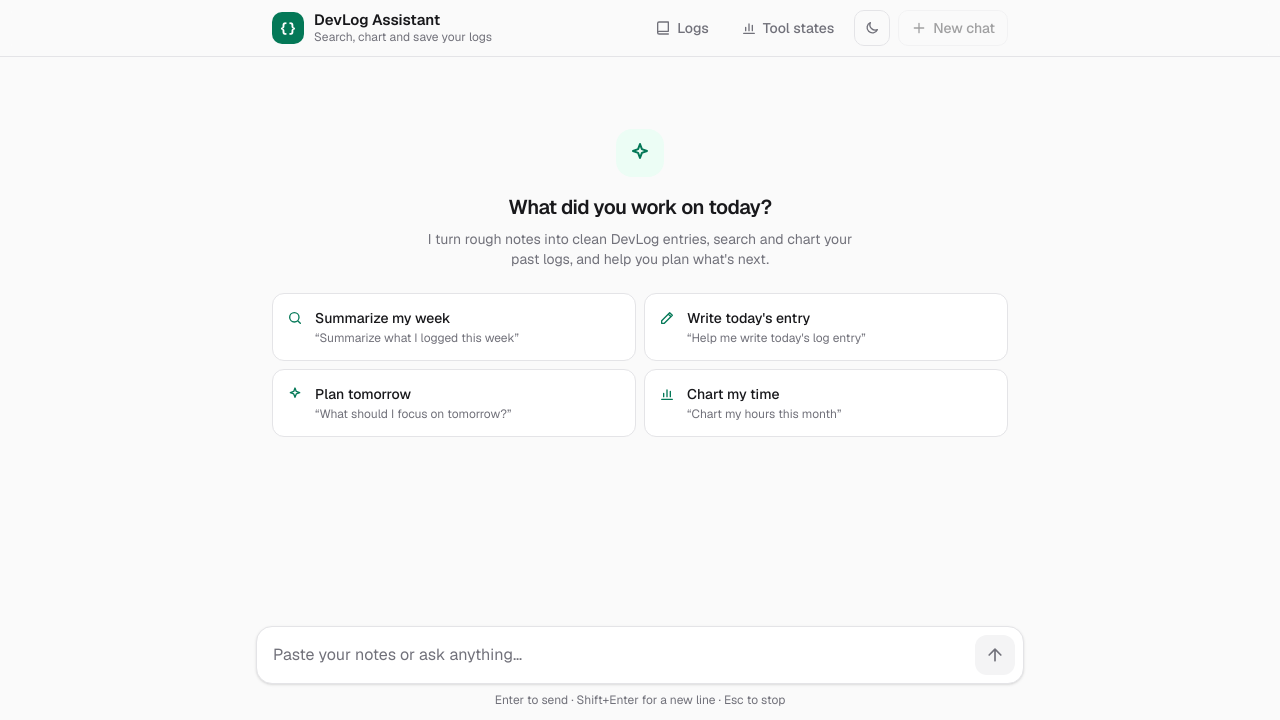
it: Chat › Stop ends the reply, keeps what streamed, and returns focus to the composer
Check: the heading "What did you work on today?" is shown, box x1=508 y1=193 x2=772 y2=221
Type "Help me write today's log entry" into the text box named "Message the DevLog Assistant" at (616, 655), box x1=265 y1=635 x2=967 y2=675
Then press Enter
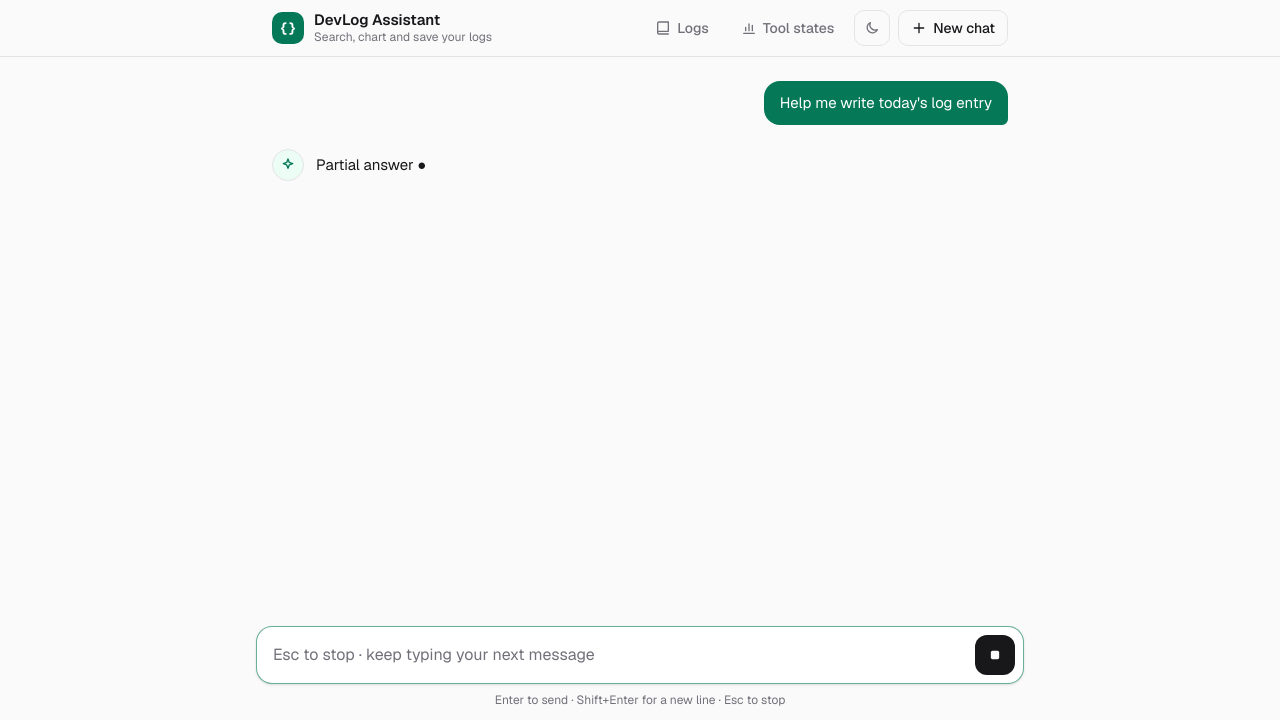
Check: the element named "Conversation" shows "Partial answer", box x1=316 y1=155 x2=414 y2=174
Click the button named "Stop generating" at (995, 655), box x1=975 y1=635 x2=1015 y2=675
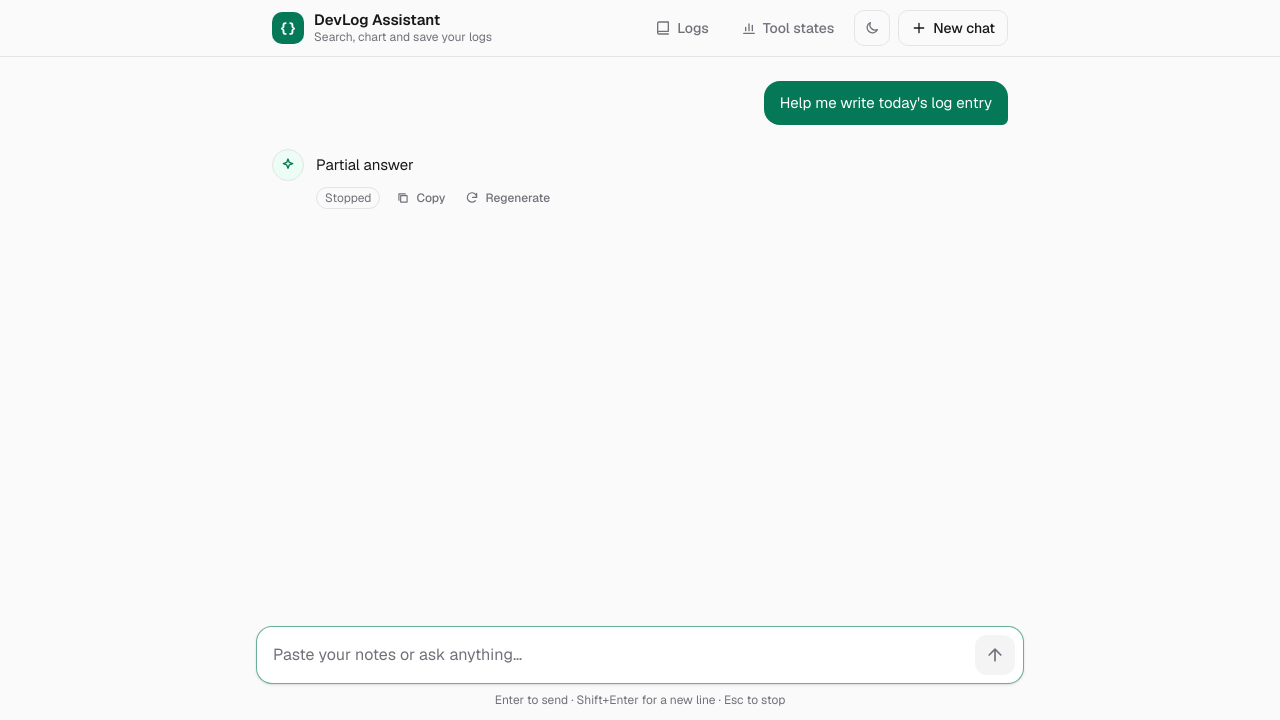
Check: the element named "Conversation" shows "Partial answer", box x1=316 y1=155 x2=414 y2=174
Check: the text "Stopped" is shown, box x1=316 y1=187 x2=380 y2=209
